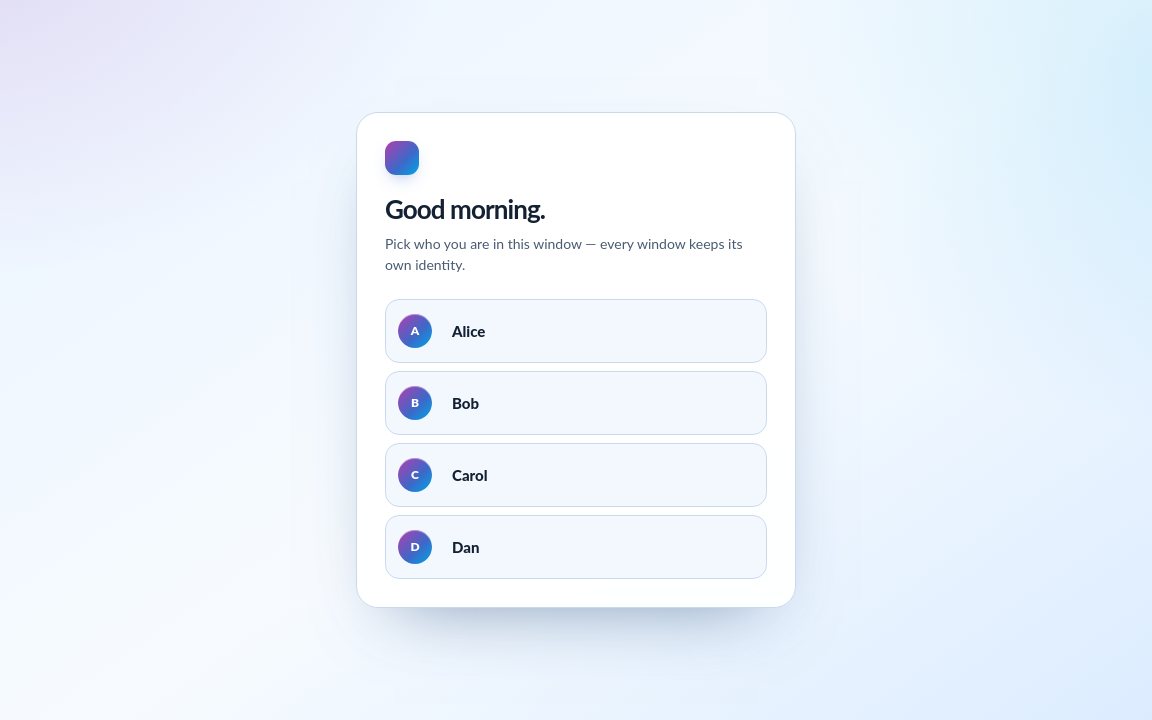
Test case: conversation creation dialog — exhausted directory (task 3.5) › states the exhausted directory in words and presents no empty selection list
The image size is (1152, 720).
Click the button "A Alice".
click(415, 331)  # box [385,299,767,363]
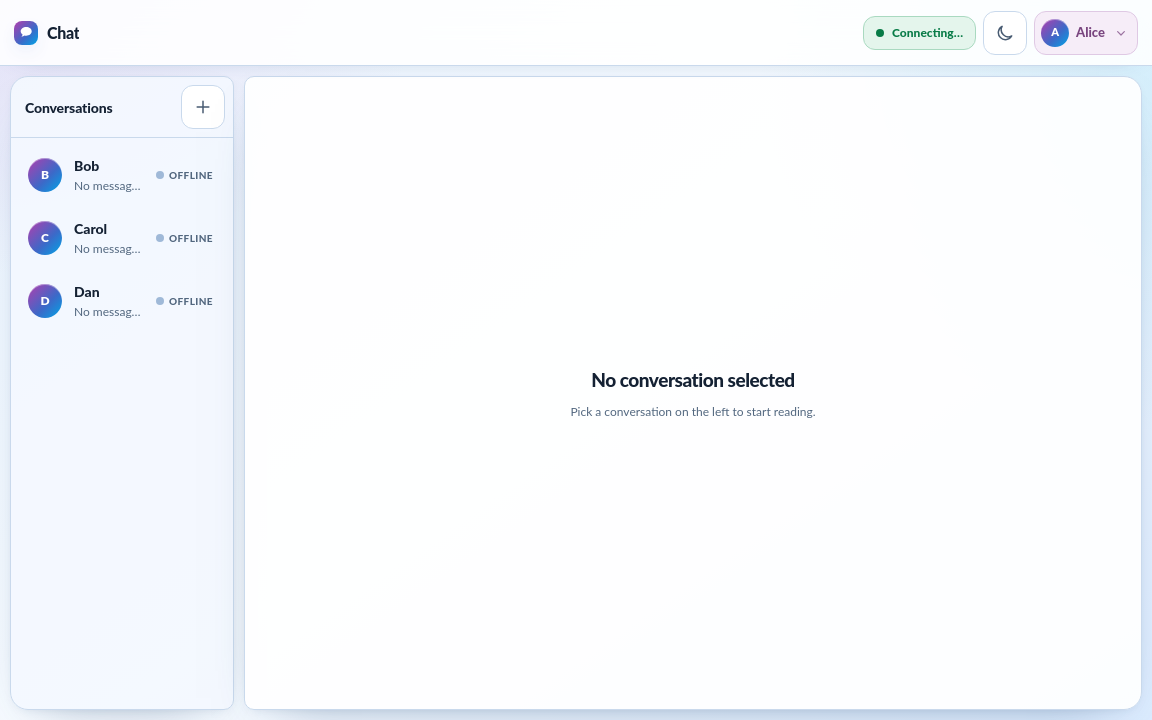
Click the button "B Bob No messages yet Offline".
click(122, 175)  # box [19,146,225,204]
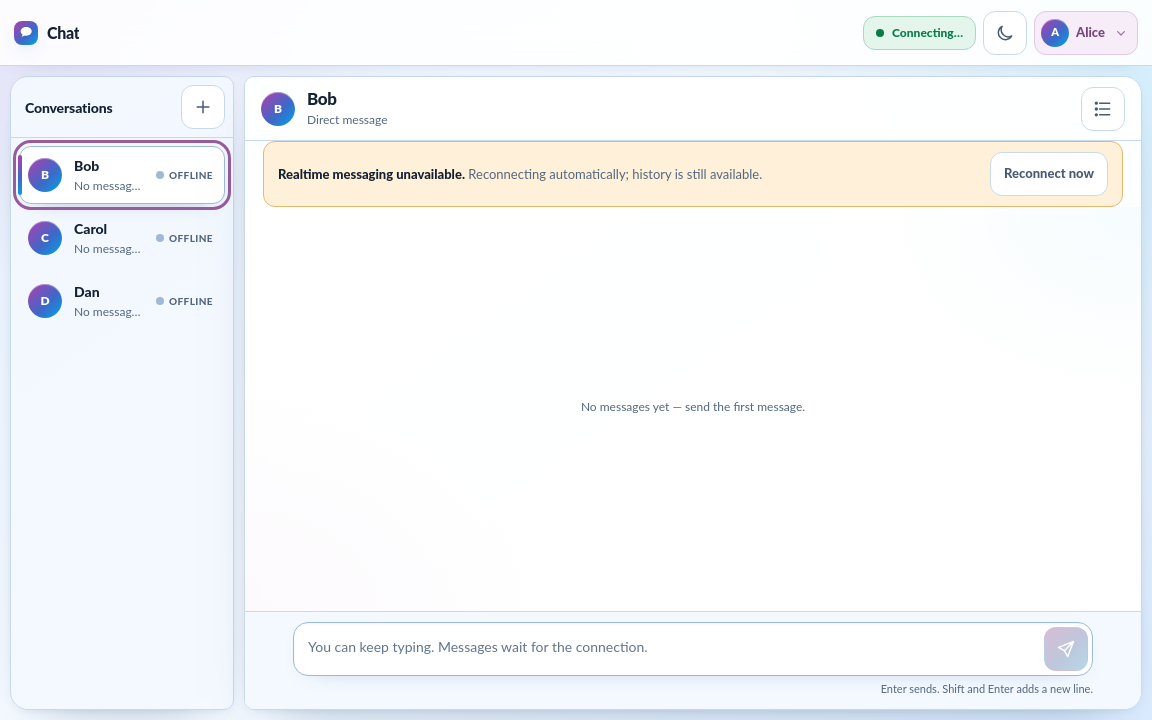
Click the button named "New conversation".
click(203, 107)  # box [181,85,225,129]
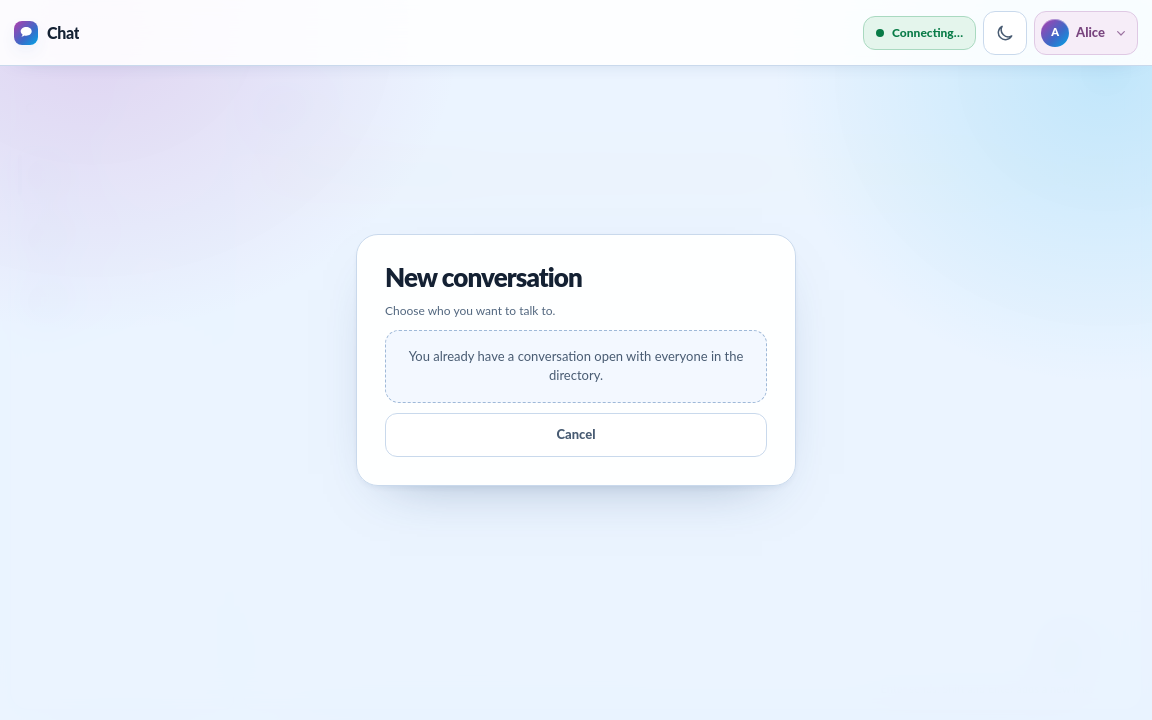
Result: the text "conversation open with everyone" is shown at [409,348,743,383]
